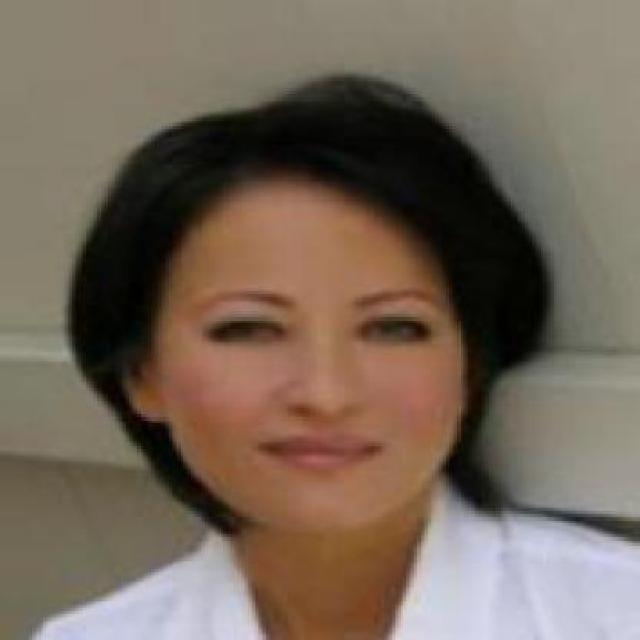closed-mouth: (253, 436, 379, 470)
